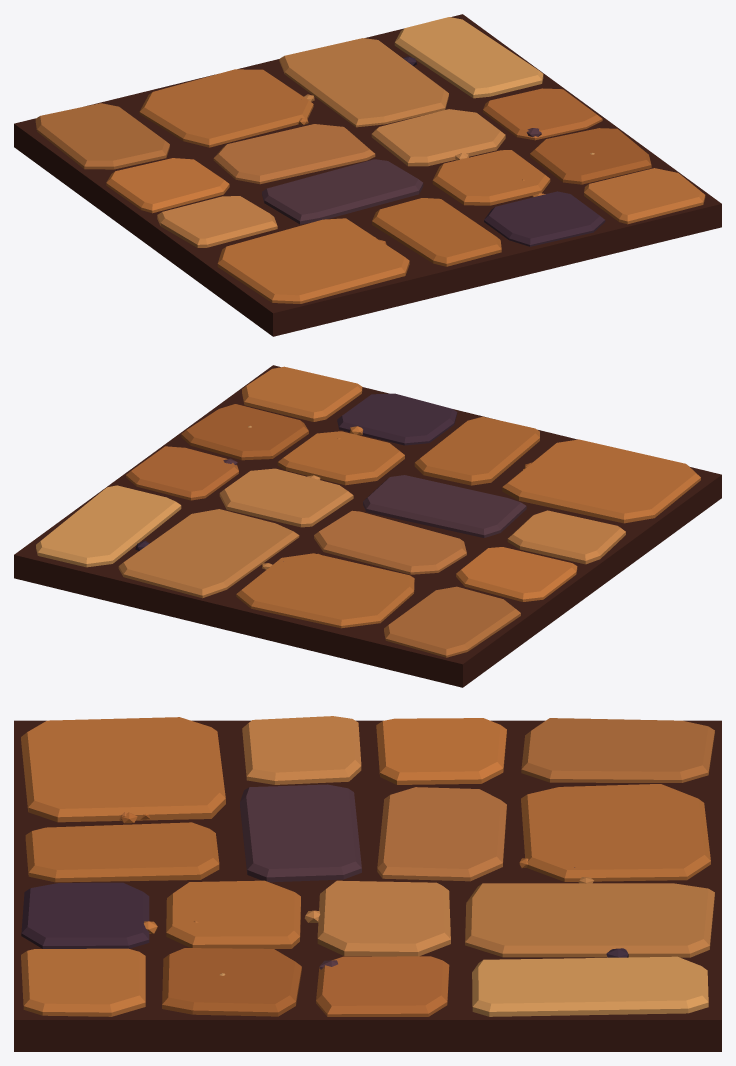
Rendered from floor_a.fbx.
3 renders of one model, top to bottom at view 1: azimuth 30°, elevation 25°; view 2: azimuth 150°, elevation 25°; view 3: azimuth 270°, elevation 25°, orthographic. The views are drawn at different scales.
Visible parts, largest first — view 1: floor_a; view 2: floor_a; view 3: floor_a.
Boxes of the visible parts, x1,y1,x2,y2 form: floor_a: (14, 14, 721, 336); floor_a: (14, 365, 721, 687); floor_a: (14, 716, 721, 1051).
Bounding box in the file's own units: 4 × 0.27 × 4.
